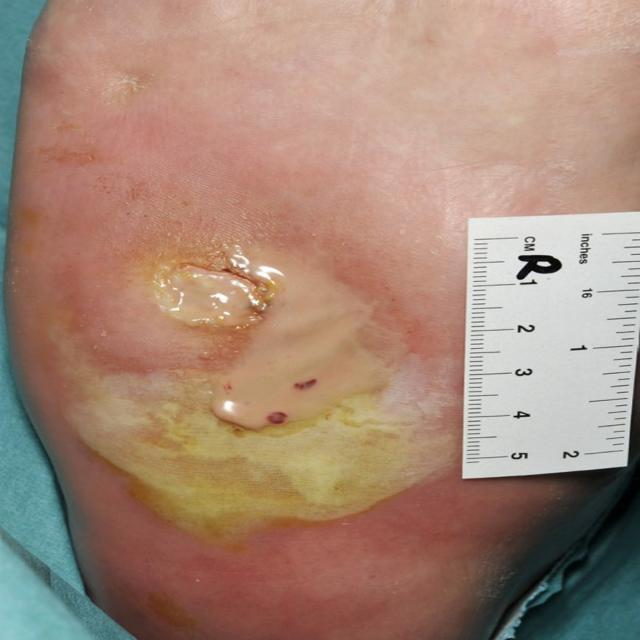wound: (136, 238, 418, 511)
